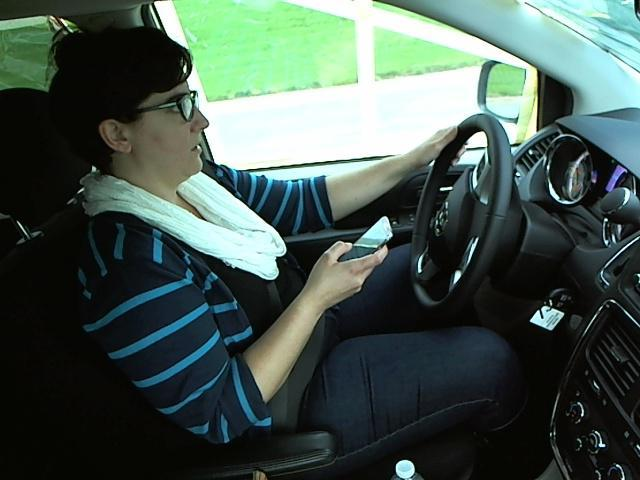PhoneUse: (328, 209, 397, 282)
